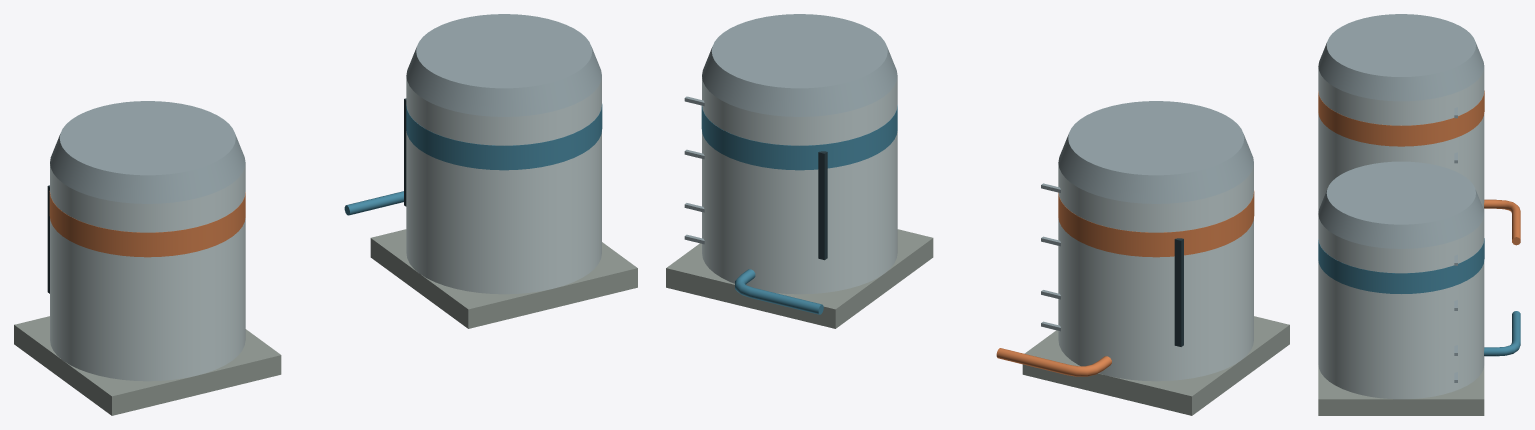
The model's file is high_temp_store.glb.
3 renders of one model, left to right at view 1: azimuth 30°, elevation 25°; view 2: azimuth 150°, elevation 25°; view 3: azimuth 270°, elevation 25°, orthographic. The views are drawn at different scales.
Parts seen in each view (by area): view 1: COLD 200C full inventory vessel, HOT 300C full inventory vessel, COLD 200C insulated roof, HOT 300C insulated roof, COLD 200C foundation, HOT 300C foundation, COLD 200C identification band, HOT 300C identification band, COLD 200C service; view 2: COLD 200C full inventory vessel, HOT 300C full inventory vessel, COLD 200C insulated roof, HOT 300C insulated roof, HOT 300C foundation, COLD 200C foundation, COLD 200C identification band, HOT 300C identification band, HOT 300C service, COLD 200C service, COLD 200C level gauge, HOT 300C level gauge; view 3: COLD 200C full inventory vessel, COLD 200C insulated roof, HOT 300C insulated roof, HOT 300C full inventory vessel, COLD 200C foundation, HOT 300C identification band, COLD 200C identification band, HOT 300C service, COLD 200C service.
Part boxes in pixels (bbox=[...]): COLD 200C full inventory vessel: bbox=[406, 76, 601, 294]; HOT 300C full inventory vessel: bbox=[50, 163, 245, 381]; COLD 200C insulated roof: bbox=[406, 14, 601, 116]; HOT 300C insulated roof: bbox=[50, 101, 245, 203]; COLD 200C foundation: bbox=[370, 229, 637, 328]; HOT 300C foundation: bbox=[14, 316, 281, 415]; COLD 200C identification band: bbox=[406, 104, 602, 170]; HOT 300C identification band: bbox=[49, 191, 245, 257]; COLD 200C service: bbox=[344, 191, 403, 215]; COLD 200C full inventory vessel: bbox=[702, 76, 897, 294]; HOT 300C full inventory vessel: bbox=[1058, 163, 1253, 381]; COLD 200C insulated roof: bbox=[702, 14, 897, 116]; HOT 300C insulated roof: bbox=[1058, 101, 1253, 203]; HOT 300C foundation: bbox=[1022, 316, 1289, 415]; COLD 200C foundation: bbox=[666, 229, 933, 328]; COLD 200C identification band: bbox=[701, 105, 897, 170]; HOT 300C identification band: bbox=[1058, 191, 1254, 257]; HOT 300C service: bbox=[996, 348, 1111, 376]; COLD 200C service: bbox=[735, 269, 823, 314]; COLD 200C level gauge: bbox=[818, 151, 827, 260]; HOT 300C level gauge: bbox=[1174, 238, 1183, 346]; COLD 200C full inventory vessel: bbox=[1318, 215, 1484, 399]; COLD 200C insulated roof: bbox=[1318, 161, 1484, 248]; HOT 300C insulated roof: bbox=[1318, 14, 1484, 101]; HOT 300C full inventory vessel: bbox=[1318, 67, 1484, 212]; COLD 200C foundation: bbox=[1318, 365, 1484, 415]; HOT 300C identification band: bbox=[1318, 90, 1484, 146]; COLD 200C identification band: bbox=[1318, 238, 1484, 293]; HOT 300C service: bbox=[1484, 199, 1520, 245]; COLD 200C service: bbox=[1484, 311, 1520, 356].
Bounding box in the file's own units: 0.5628 × 0.2262 × 0.2212.
